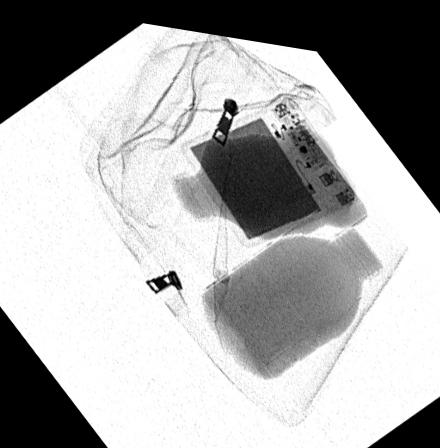Powerbank: (179, 92, 358, 240)
